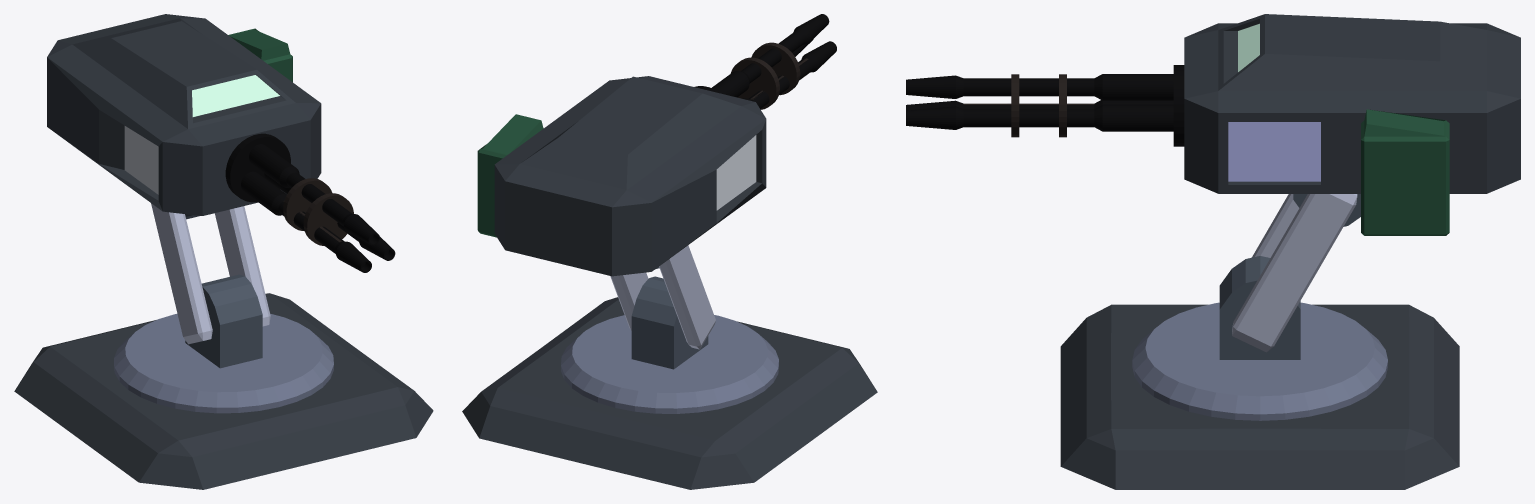
Rendered from tower.fbx.
3 views of the same model, side by side, from view 1: azimuth 30°, elevation 25°; view 2: azimuth 150°, elevation 25°; view 3: azimuth 270°, elevation 25° (orthographic). The views are drawn at different scales.
Visible parts, largest first — view 1: Head, Stand_bottom, Stand_connector, Gun, Joint_bottom; view 2: Head, Stand_bottom, Stand_connector, Gun, Joint_bottom; view 3: Head, Stand_bottom, Stand_connector, Gun, Joint_bottom.
Part boxes in pixels (box(x1,y1,x2,y2)): Head: box(47, 14, 321, 219); Stand_bottom: box(14, 293, 433, 489); Stand_connector: box(114, 274, 333, 413); Gun: box(225, 133, 395, 272); Joint_bottom: box(151, 203, 270, 344); Head: box(477, 76, 766, 276); Stand_bottom: box(462, 297, 877, 489); Stand_connector: box(561, 276, 778, 413); Gun: box(695, 14, 836, 109); Joint_bottom: box(610, 245, 715, 349); Head: box(1184, 14, 1520, 235); Stand_bottom: box(1060, 304, 1459, 489); Stand_connector: box(1132, 256, 1387, 420); Gun: box(906, 65, 1184, 146); Joint_bottom: box(1232, 194, 1357, 352).
Bounding box in the file's own units: 3.09 × 3.21 × 4.81.
Materials: 1 (1 with a texture image).
